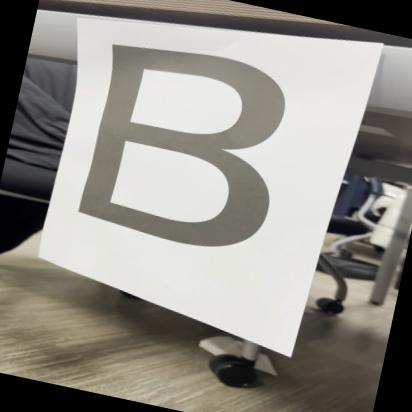seat: (42, 22, 334, 287)
